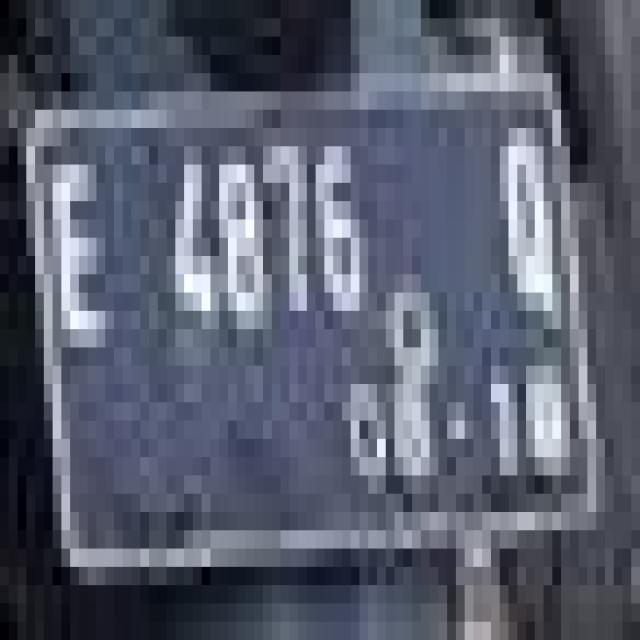4: (153, 137, 214, 338)
6: (316, 110, 368, 330)
7: (263, 119, 316, 338)
8: (219, 137, 263, 338)
E: (44, 146, 114, 348)
Q: (491, 119, 561, 338)
